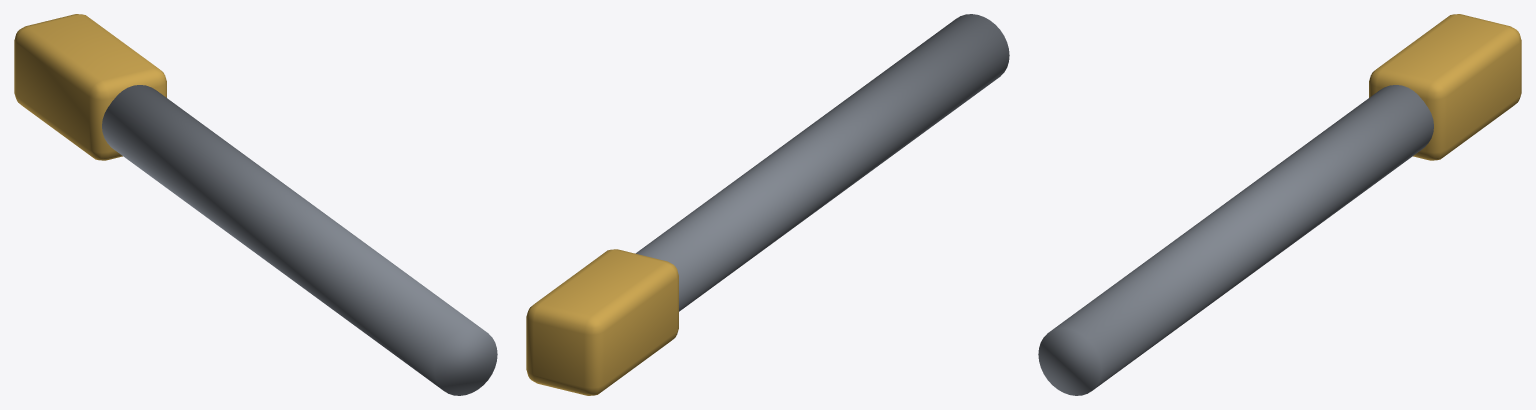
The model's file is w_bat.glb.
3 renders of one model, left to right at view 1: azimuth 30°, elevation 25°; view 2: azimuth 150°, elevation 25°; view 3: azimuth 330°, elevation 25°, orthographic.
Parts seen in each view (by area): view 1: weapon; view 2: weapon; view 3: weapon.
Part boxes in pixels (x1=…): weapon: x1=14, y1=14, x2=497, y2=395; weapon: x1=526, y1=14, x2=1009, y2=395; weapon: x1=1038, y1=14, x2=1521, y2=395.
Size of the model in its own units: 0.06 by 0.06 by 0.575.
